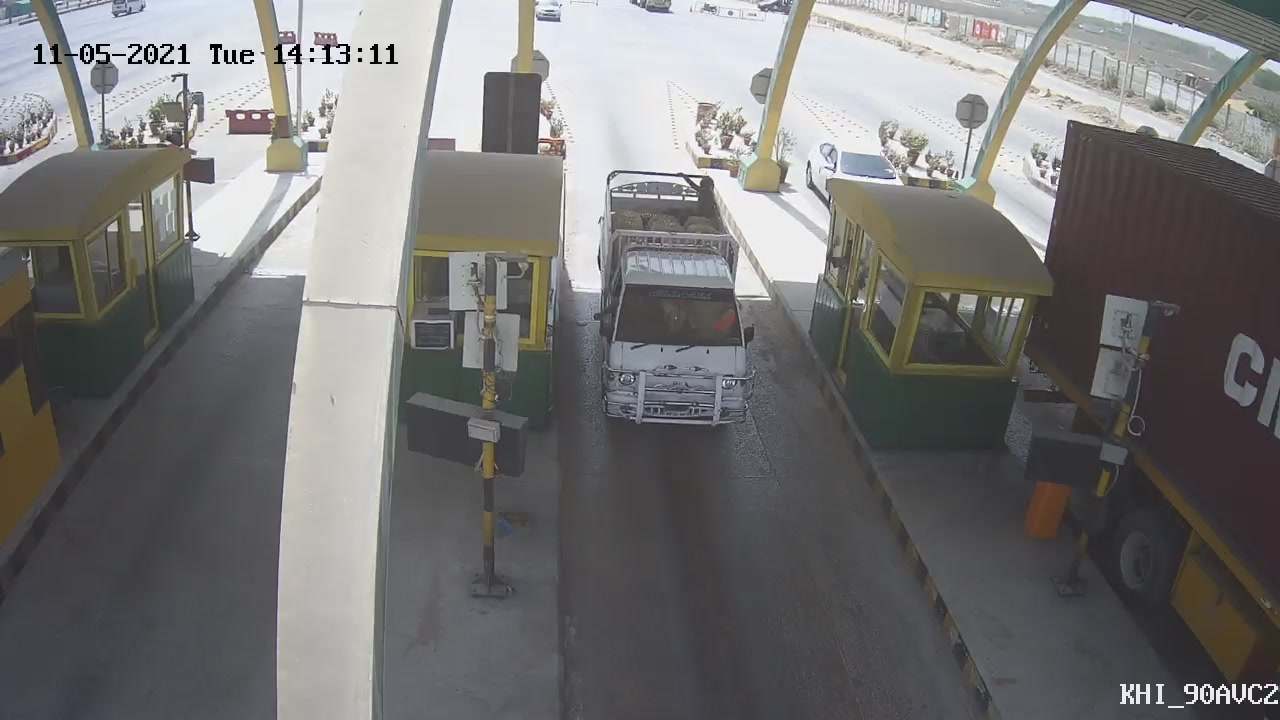F2: (599, 167, 764, 450)
